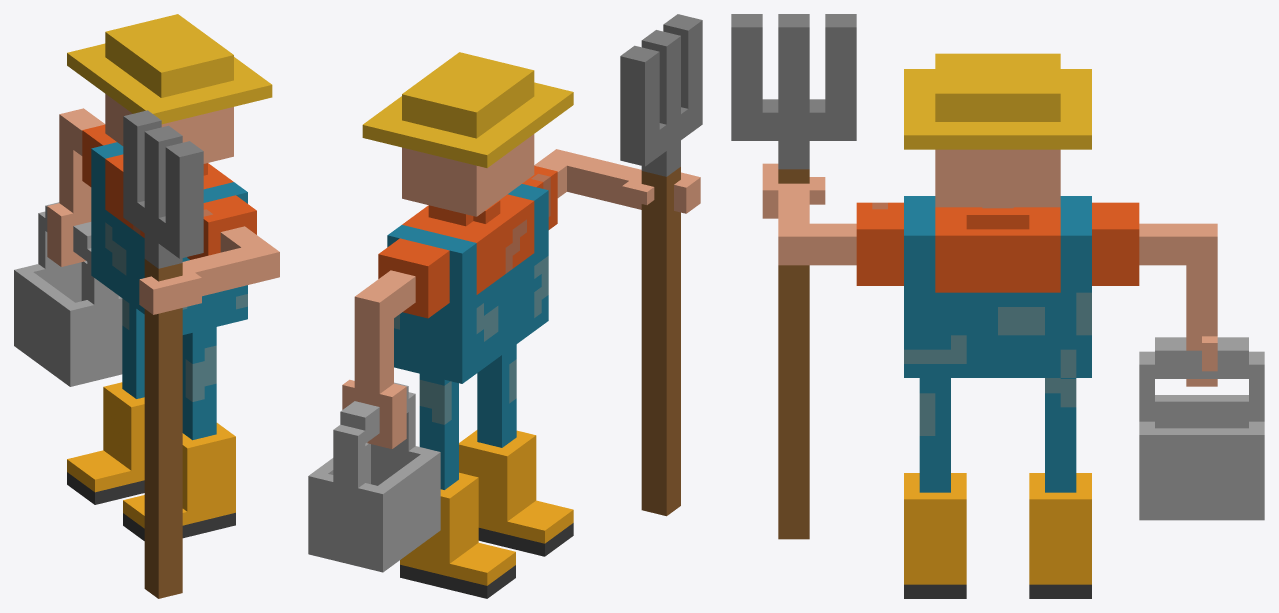
Rendered from granjero.glb.
3 renders of one model, left to right at view 1: azimuth 30°, elevation 25°; view 2: azimuth 150°, elevation 25°; view 3: azimuth 270°, elevation 25°, orthographic. The views are drawn at different scales.
Parts seen in each view (by area): view 1: _0; view 2: _0; view 3: _0.
Part boxes in pixels (left/top/right/bottom): _0: left=14, top=14, right=279, bottom=598; _0: left=308, top=14, right=702, bottom=598; _0: left=731, top=14, right=1264, bottom=598.
Size of the model in its own units: 0.0225 by 0.054 by 0.051.
